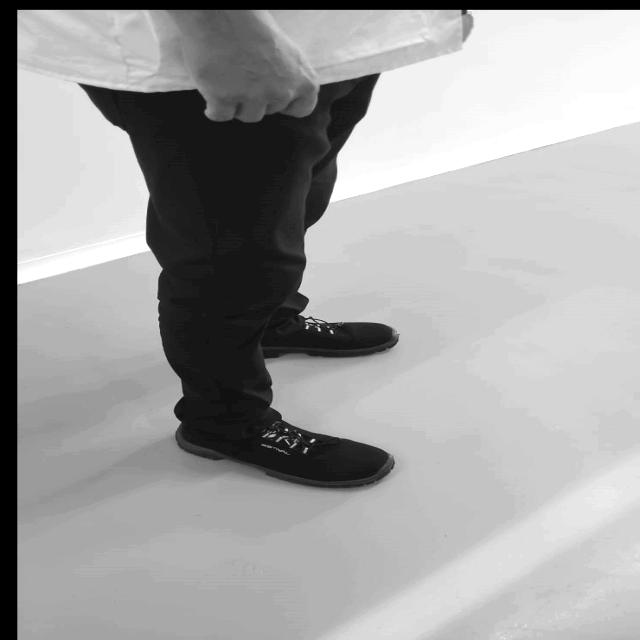Boots: (170, 414, 406, 496), (254, 313, 410, 365)
